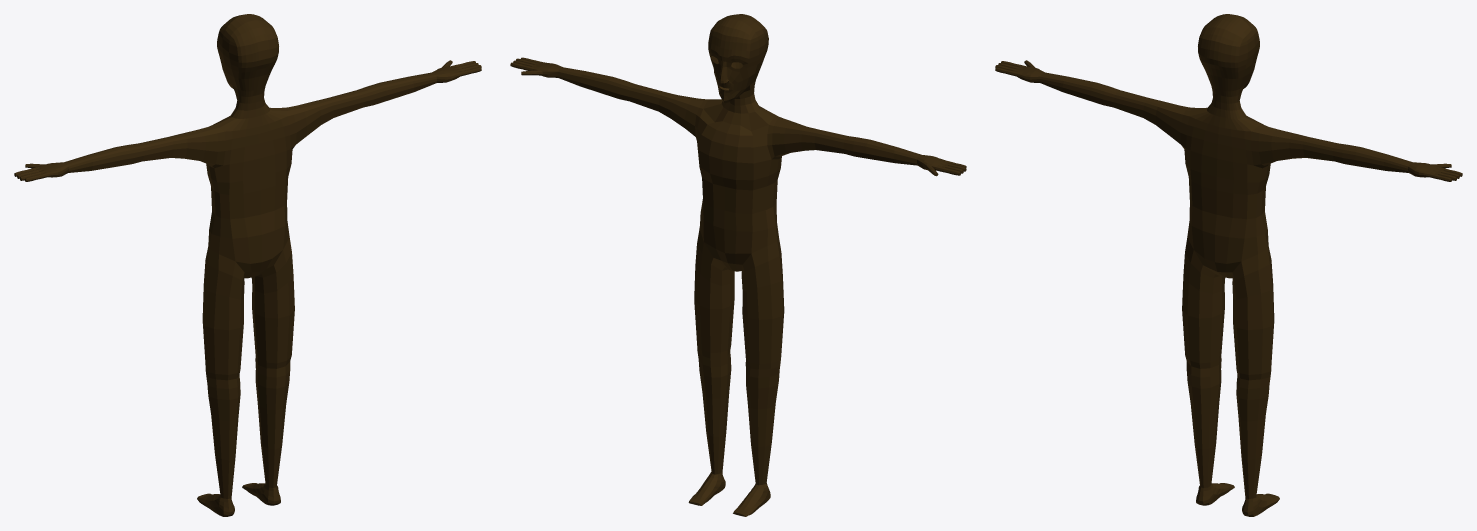
Rendered from prueba01.obj.
3 views of the same model, side by side, from view 1: azimuth 30°, elevation 25°; view 2: azimuth 150°, elevation 25°; view 3: azimuth 330°, elevation 25° (orthographic). The views are drawn at different scales.
Visible parts, largest first — view 1: Plane_Plane.000; view 2: Plane_Plane.000; view 3: Plane_Plane.000.
Part boxes in pixels (<box>): Plane_Plane.000: <box>14,14,481,516</box>; Plane_Plane.000: <box>510,14,966,516</box>; Plane_Plane.000: <box>995,14,1462,516</box>.
Bounding box in the file's own units: 6.92 × 7.05 × 0.9805.
